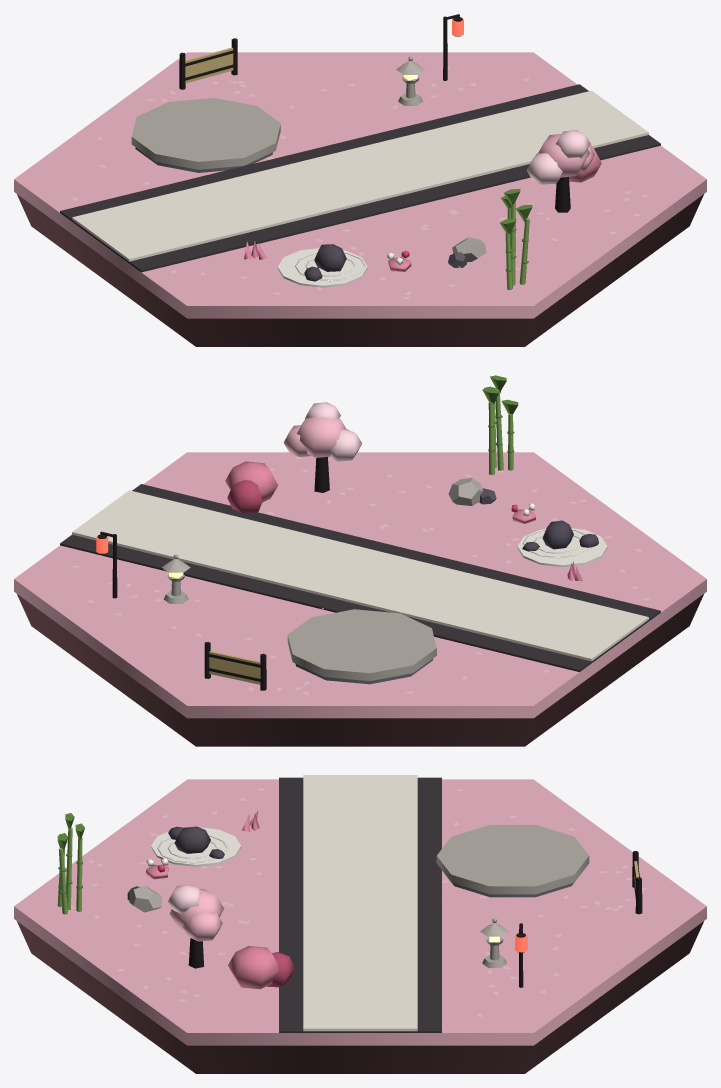
File: tile_straight.glb
3 views of the same model, one above another, from view 1: azimuth 30°, elevation 25°; view 2: azimuth 150°, elevation 25°; view 3: azimuth 270°, elevation 25° (orthographic).
Visible parts, largest first — view 1: ground, road, ground_soil, tower_slot_1_plate, road_surface_hub, deco_tree_0, deco_karesansui_gravel, deco_bamboo, deco_karesansui, deco_petals, deco_takegaki_panel, road_verge_hub (+1 smaller); view 2: ground, road, ground_soil, tower_slot_1_plate, deco_tree_0, road_surface_hub, deco_bamboo, deco_karesansui_gravel, deco_karesansui, road_verge_hub, deco_bush_1_a, deco_takegaki_panel (+3 smaller); view 3: ground, road, ground_soil, tower_slot_1_plate, road_surface_hub, deco_tree_0, deco_karesansui_gravel, deco_bamboo, deco_bush_1_a, deco_karesansui, deco_petals, road_verge_hub (+2 smaller).
Boxes of the visible parts, x1,y1,x2,y2 form: ground: (14, 52, 706, 318); road: (60, 84, 660, 272); ground_soil: (17, 194, 703, 346); tower_slot_1_plate: (131, 98, 280, 169); road_surface_hub: (304, 151, 412, 195); deco_tree_0: (526, 130, 594, 184); deco_karesansui_gravel: (277, 248, 367, 287); deco_bamboo: (500, 188, 532, 289); deco_karesansui: (295, 244, 365, 281); deco_petals: (73, 67, 647, 298); deco_takegaki_panel: (185, 47, 233, 83); road_verge_hub: (304, 144, 438, 211); ground: (14, 452, 706, 718); road: (60, 484, 660, 671); ground_soil: (17, 594, 703, 746); tower_slot_1_plate: (287, 609, 436, 680); deco_tree_0: (283, 402, 361, 461); road_surface_hub: (304, 552, 415, 598); deco_bamboo: (482, 375, 518, 474); deco_karesansui_gravel: (517, 528, 607, 566); deco_karesansui: (522, 520, 598, 558); road_verge_hub: (282, 543, 434, 610); deco_bush_1_a: (225, 461, 278, 502); deco_takegaki_panel: (209, 651, 260, 684); ground: (14, 779, 706, 1045); road: (279, 775, 441, 1032); ground_soil: (17, 921, 703, 1073); tower_slot_1_plate: (436, 825, 589, 894); road_surface_hub: (303, 877, 417, 925); deco_tree_0: (168, 884, 223, 941); deco_karesansui_gravel: (151, 827, 241, 866); deco_bamboo: (57, 813, 84, 914); deco_bush_1_a: (228, 946, 279, 989); deco_karesansui: (157, 826, 227, 863); deco_petals: (71, 788, 646, 1017); road_verge_hub: (279, 882, 441, 928).
Size of the model in its own units: 1.73 by 0.445 by 2.
